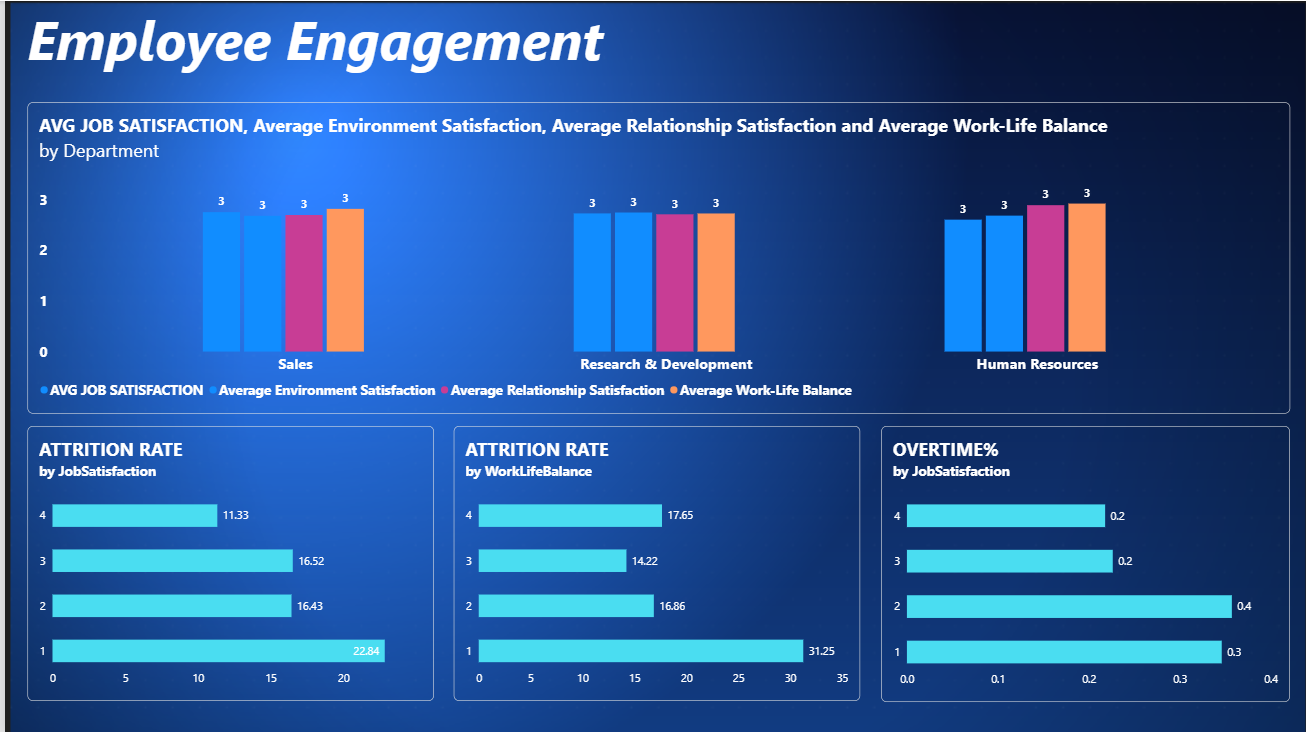

This screenshot's page, from the dashboard's own definition file:
{"tool":"powerbi","page":{"name":"EMPLOYEE ENGAGEMENT","canvas":[1920,1080],"ordinal":2},"visuals":[{"type":"clusteredBarChart","fields":{"Category":["HR.JobSatisfaction"],"Y":["KPICalculations.ATTRITION RATE"]},"box":[33.1,625.8,598.2,404.9],"z":0},{"type":"clusteredBarChart","fields":{"Category":["HR.WorkLifeBalance"],"Y":["KPICalculations.ATTRITION RATE"]},"box":[660.7,625.8,598.2,404.9],"z":1000},{"type":"clusteredBarChart","fields":{"Category":["HR.JobSatisfaction"],"Y":["KPICalculations.OVERTIME%"]},"box":[1290.2,625.8,601.8,406.8],"z":2000},{"type":"clusteredColumnChart","fields":{"Category":["HR.Department"],"Y":["KPICalculations.AVG JOB SATISFACTION","KPICalculations.Average Environment Satisfaction","KPICalculations.Average Relationship Satisfaction","KPICalculations.Average Work-Life Balance"]},"box":[33.1,149.1,1858.9,458.3],"z":3000},{"type":"textbox","box":[33.1,0,1058.3,134.4],"z":4001}]}

Visuals, with their boxes in screenshot pixels (x1, y1, x2, y2), scaled from the page's 1920x1080 canvas onto the 1306x732 screenshot:
clusteredBarChart - HR.JobSatisfaction x KPICalculations.ATTRITION RATE: 23/424/429/699
clusteredBarChart - HR.WorkLifeBalance x KPICalculations.ATTRITION RATE: 449/424/856/699
clusteredBarChart - HR.JobSatisfaction x KPICalculations.OVERTIME%: 878/424/1287/700
clusteredColumnChart - HR.Department x KPICalculations.AVG JOB SATISFACTION: 23/101/1287/412
textbox: 23/0/742/91
